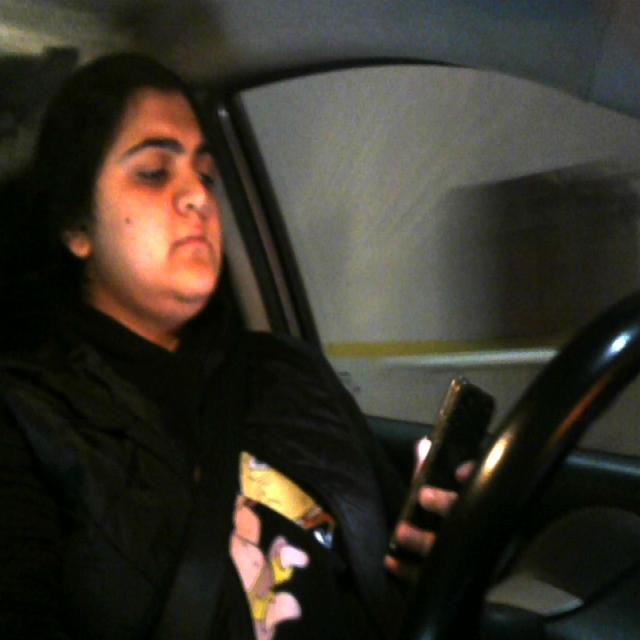mobile use: (383, 372, 500, 580)
